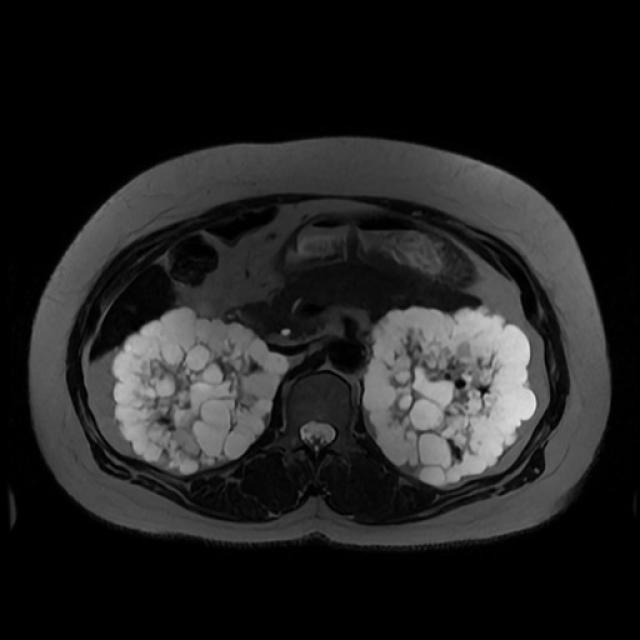sag: (111, 307, 288, 472)
sol: (366, 307, 537, 486)
